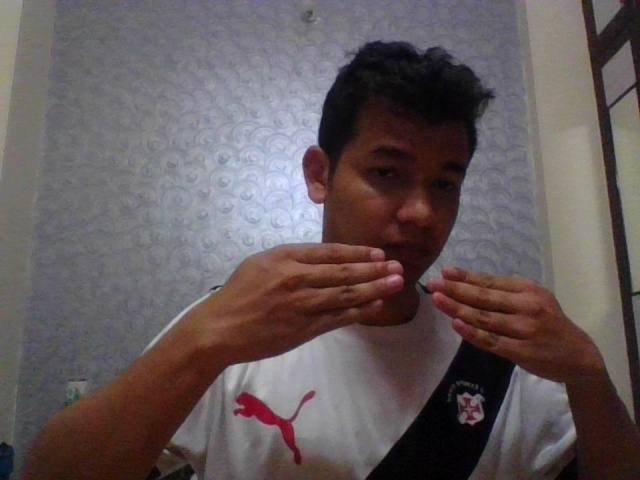Thankyou: (220, 240, 589, 383)
